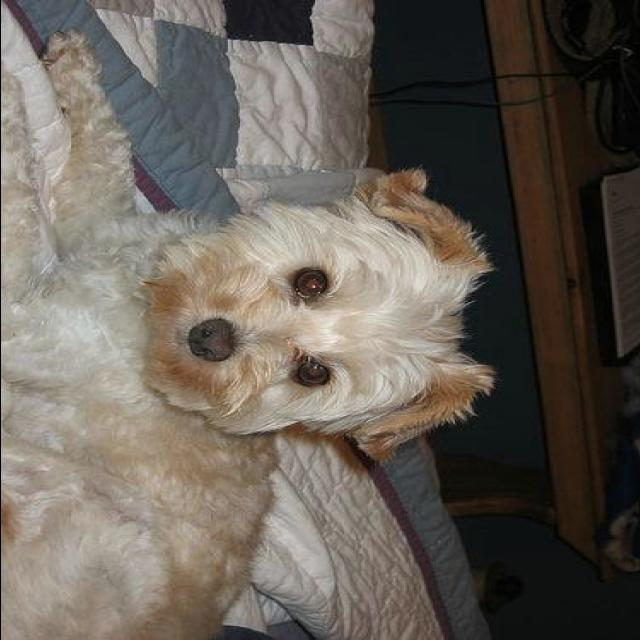maltese_dog: (1, 28, 494, 638)
